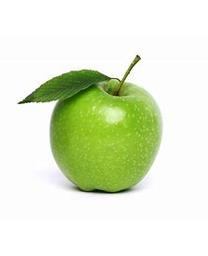apple: (48, 78, 162, 193)
